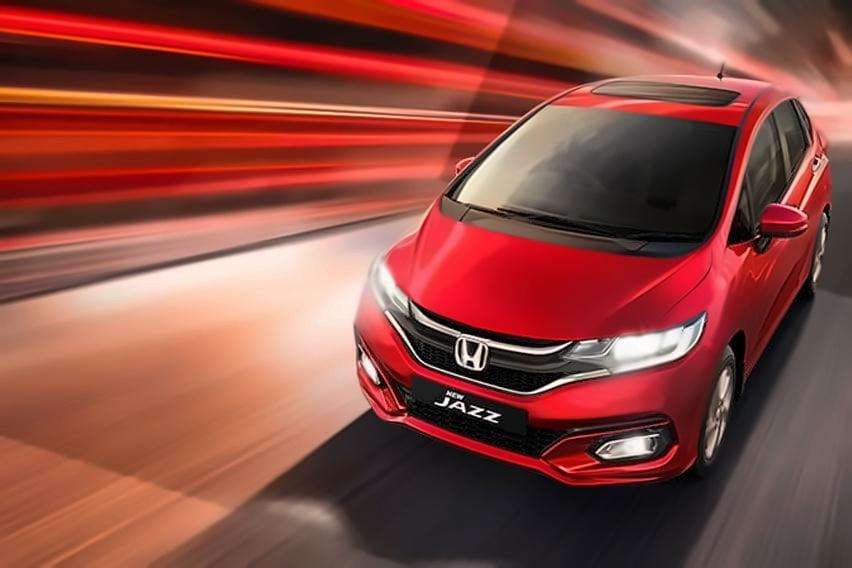Car hood: (379, 196, 716, 342)
Fender - -F-L-: (695, 296, 748, 401)
Front bumper: (350, 304, 699, 487)
Headlight - -L-: (559, 310, 709, 376)
Headlight - -R-: (358, 256, 413, 326)
Passenger-s door - -F-L-: (735, 89, 804, 403)
Passenger-s door - -R-L-: (771, 78, 829, 351)
Side bumper - -L-: (736, 252, 819, 416)
Side mirror - -L-: (757, 201, 809, 238)
Side mirror - -R-: (449, 155, 478, 182)
